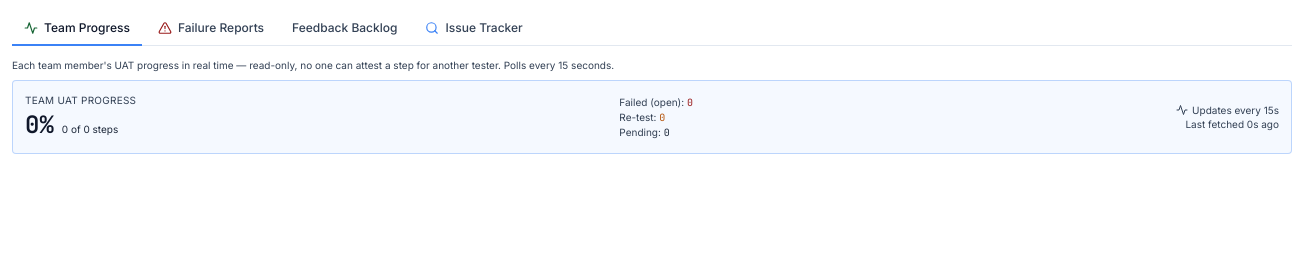
Test: UAT #119 — Test Administration visibility split › non-sysadmin team_member (Bob / Molly) › sees the feedback row but NOT the row status select
This screenshot has width=1292, height=258.
// Switch to the Feedback Backlog tab. It's labeled "Feedback".
Click the button "Feedback Backlog".
click(345, 29)  # box x1=280 y1=12 x2=410 y2=46
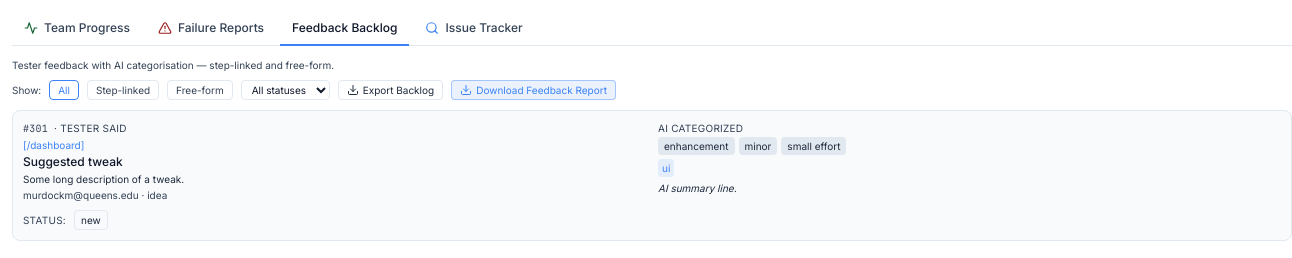
Now the text "Suggested tweak" is shown, box x1=23 y1=154 x2=123 y2=169
Now the number of dropdowns is 1, box x1=241 y1=80 x2=330 y2=100
Now the text "Status:" is shown, box x1=23 y1=213 x2=66 y2=227
